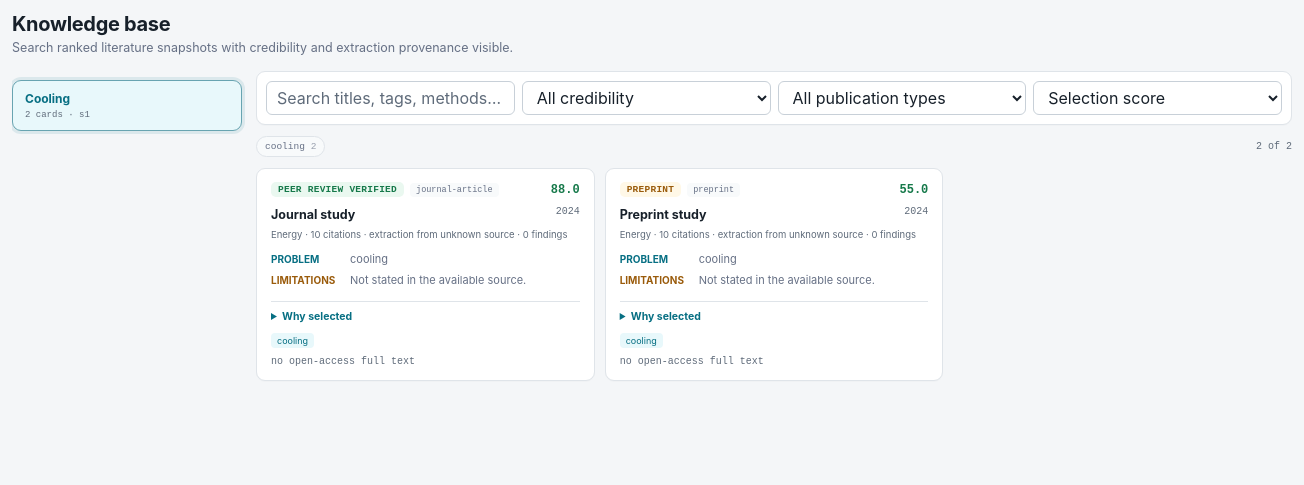
KnowledgeBase › shows credibility details and filters preprints
Check: the heading "Journal study" is shown, box [271, 206, 355, 224]
Check: the text "peer review verified" is shown, box [271, 182, 404, 197]
Select "Preprints" in the dropdown named "Peer review filter" at (646,98), box [522, 81, 771, 115]
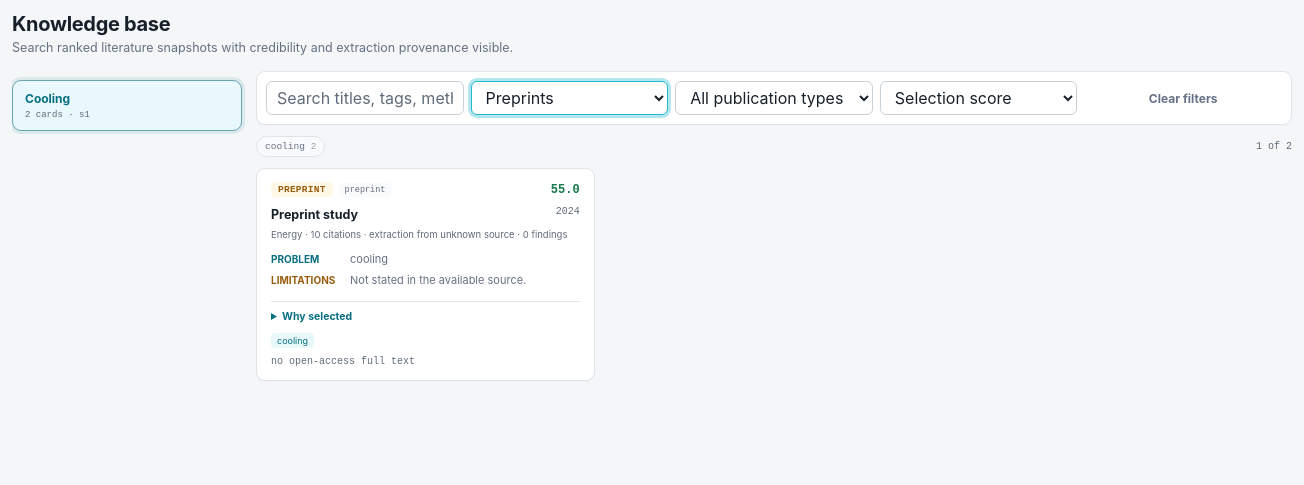
Check: the heading "Preprint study" is shown, box [271, 206, 358, 224]
Check: the heading "Journal study" is gone
Click the heading "Why selected" at (317,317), box [282, 310, 352, 323]
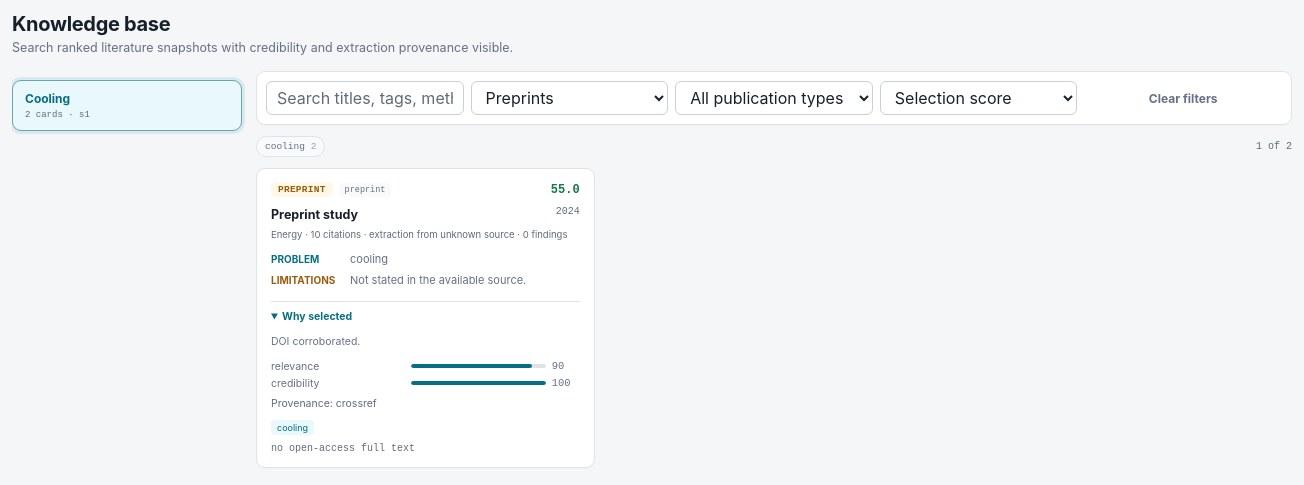
Check: the text "DOI corroborated." is shown, box [271, 335, 360, 348]
